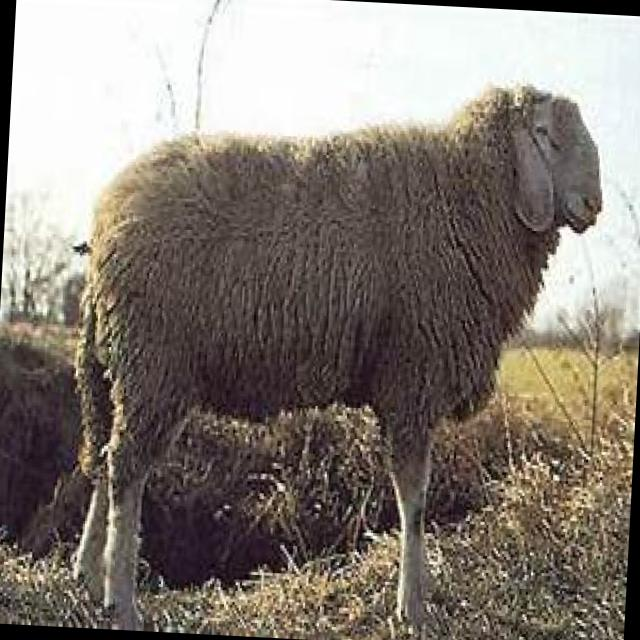animal: (63, 61, 610, 640)
